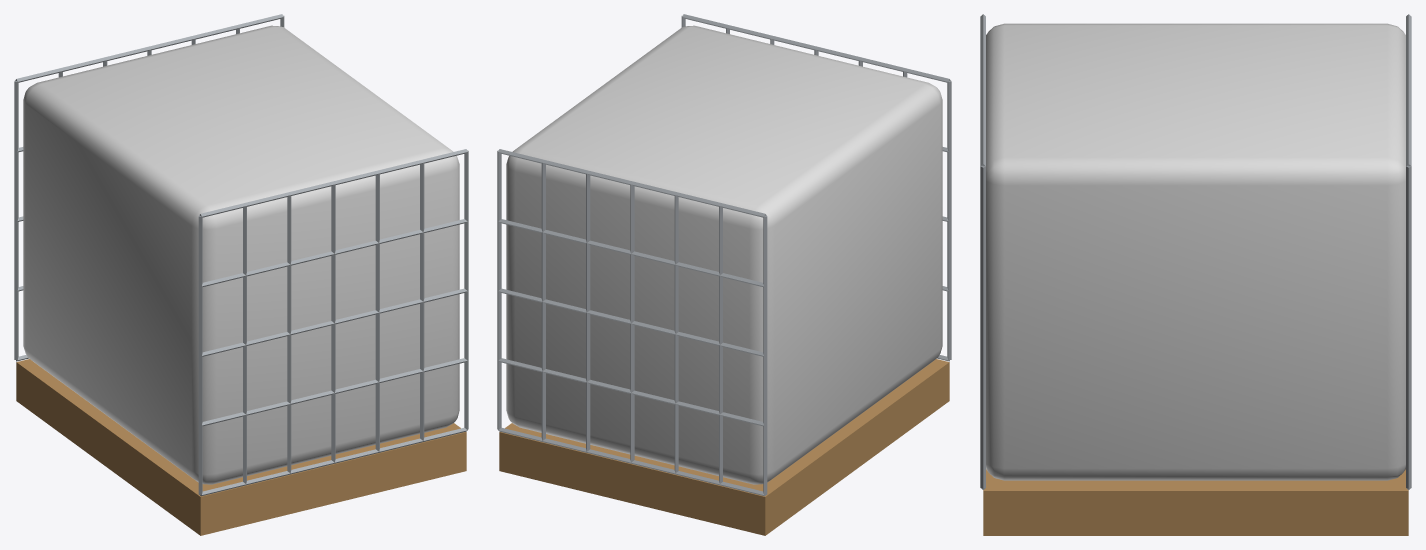
The model's file is industrial.process.ibc.glb.
3 views of the same model, side by side, from view 1: azimuth 30°, elevation 25°; view 2: azimuth 150°, elevation 25°; view 3: azimuth 270°, elevation 25° (orthographic). The views are drawn at different scales.
Parts seen in each view (by area): view 1: main__plastic_white, main__softwood, main__steel_galvanised; view 2: main__plastic_white, main__softwood, main__steel_galvanised; view 3: main__plastic_white, main__softwood, main__steel_galvanised.
Part boxes in pixels (x1,y1,x2,y2): main__plastic_white: [23, 25, 459, 484]; main__softwood: [16, 359, 466, 535]; main__steel_galvanised: [14, 14, 468, 496]; main__plastic_white: [506, 25, 942, 484]; main__softwood: [499, 359, 949, 535]; main__steel_galvanised: [497, 14, 951, 496]; main__plastic_white: [986, 23, 1405, 480]; main__softwood: [983, 469, 1408, 535]; main__steel_galvanised: [980, 14, 1411, 489].
Size of the model in its own units: 1.02 by 1.16 by 1.22.
